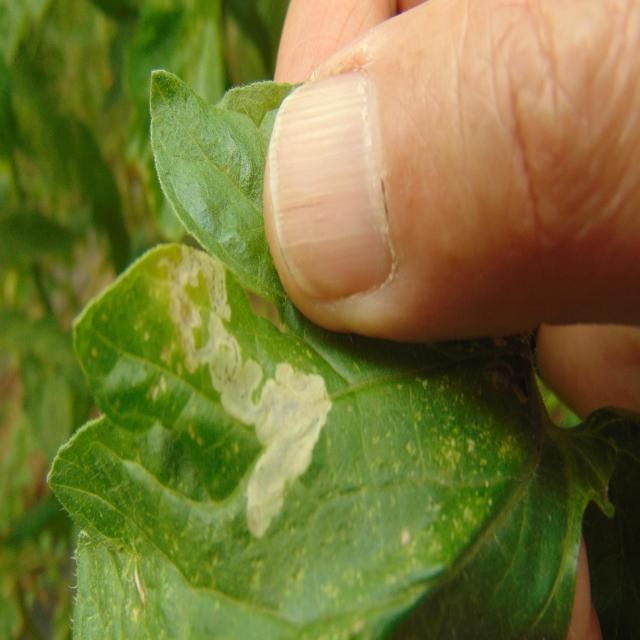Tuta absoluta: (148, 219, 368, 541)
